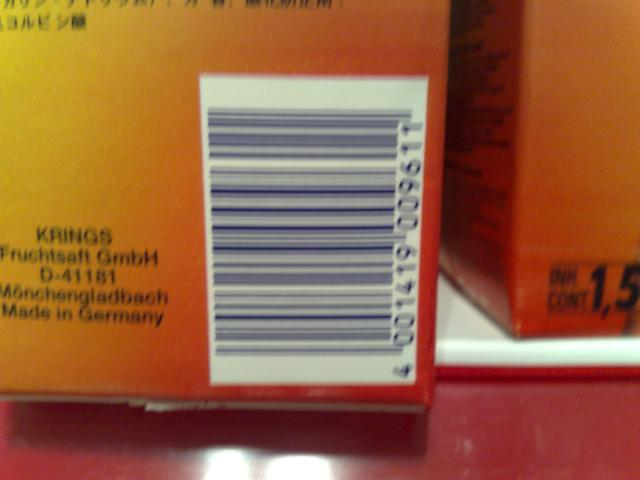Barcode: (200, 75, 428, 391)
